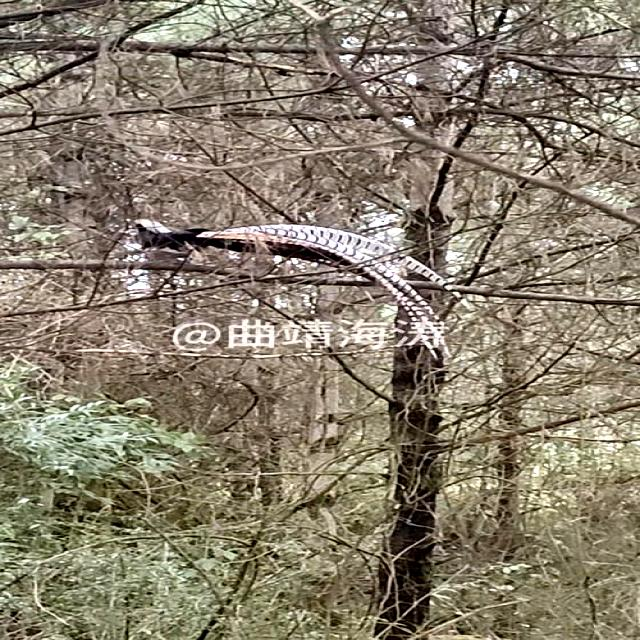Chrysolophus amherstiae: (197, 225, 444, 348)
